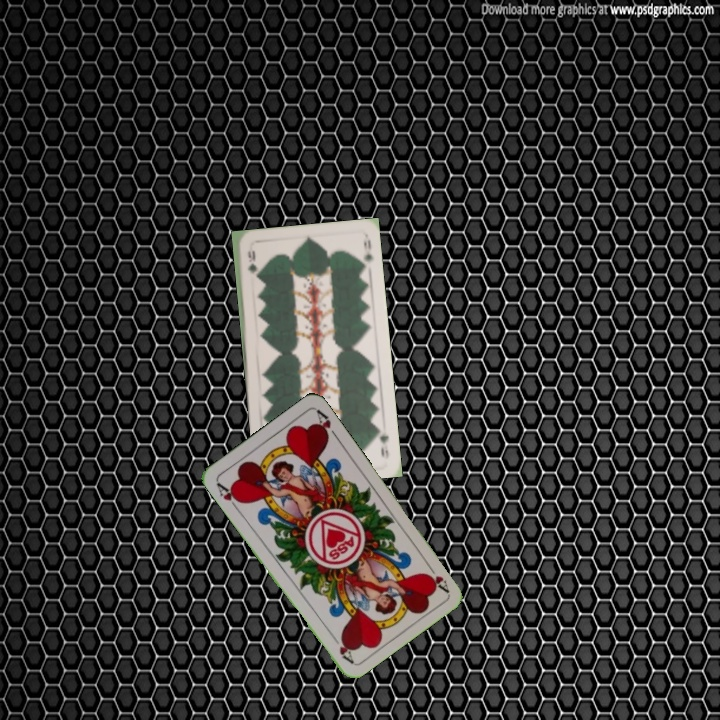G9: (374, 422, 391, 461), (243, 247, 258, 276)
HA: (212, 478, 245, 513), (421, 559, 451, 595)
